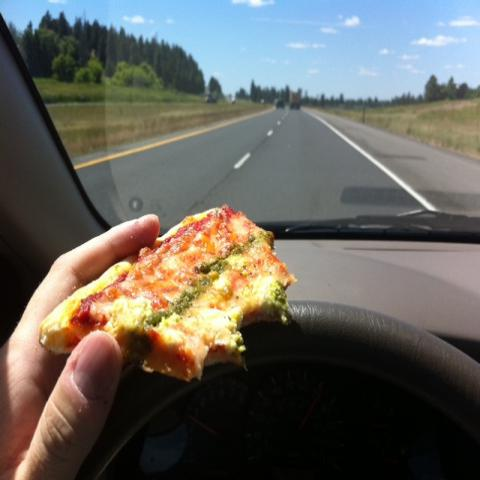car: (1, 1, 479, 474), (275, 98, 284, 109)
truck: (290, 92, 300, 109), (205, 91, 218, 104)
